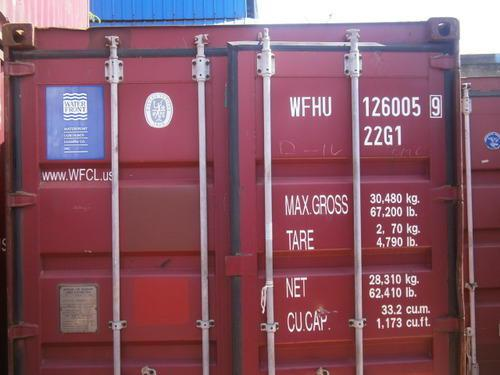ContainerNum: (288, 94, 444, 147)
